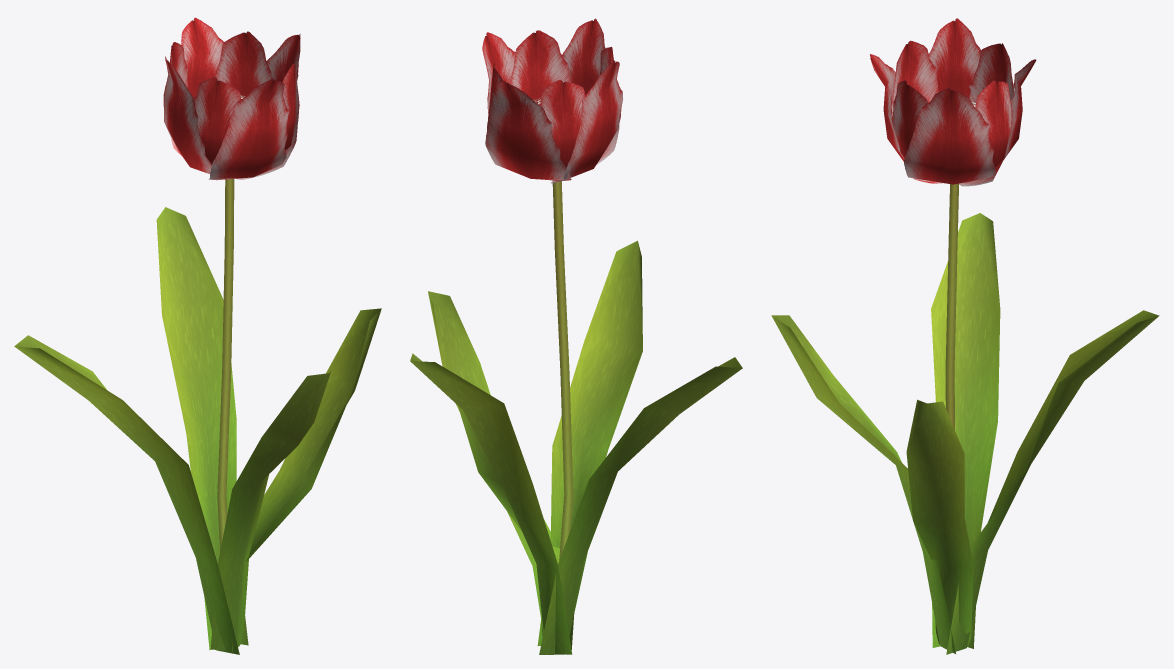
File: m_flower18.fbx
3 renders of one model, left to right at view 1: azimuth 30°, elevation 25°; view 2: azimuth 150°, elevation 25°; view 3: azimuth 270°, elevation 25°, orthographic.
Parts seen in each view (by area): view 1: mesh_flower18; view 2: mesh_flower18; view 3: mesh_flower18.
Boxes of the visible parts, bbox=[...] form: mesh_flower18: bbox=[14, 17, 381, 654]; mesh_flower18: bbox=[410, 18, 742, 654]; mesh_flower18: bbox=[771, 18, 1159, 654].
Bounding box in the file's own units: 0.2464 × 0.4208 × 0.2449.
1 material, 1 textured.
